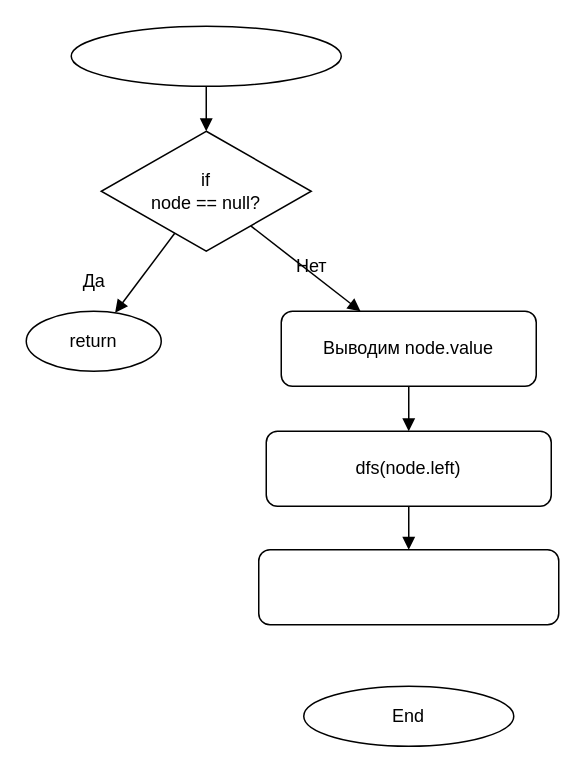
Some shapes in this 585 by 773 pixel diagram are drawn without their labels. The shapes that lost their labels are listed below. From the top down, each one's box as (x1, y1, x2, y2) in pixels, then its label:
(70, 25, 341, 86): Start dfs(node)
(257, 548, 559, 625): dfs(node.right)
